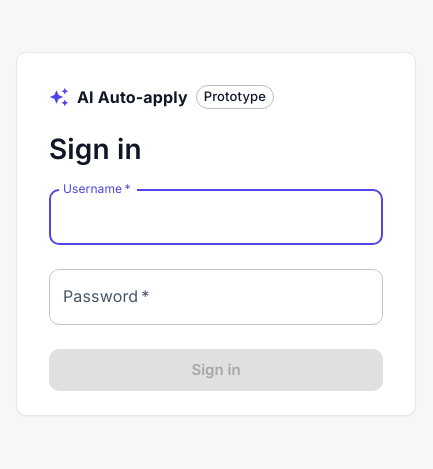
Test: login gate › says so on a wrong password and stays on the login page
The image size is (433, 469).
Type "jobseeker" into the field labelled "Username *".
click(216, 217); type("jobseeker")  # box [49,189,383,245]
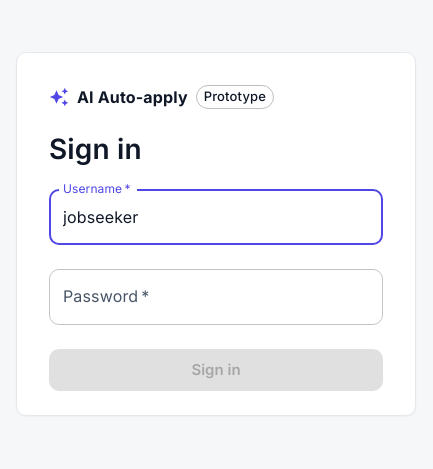
Type "wrong" into the password field labelled "Password *".
click(216, 297); type("wrong")  # box [49,269,383,325]
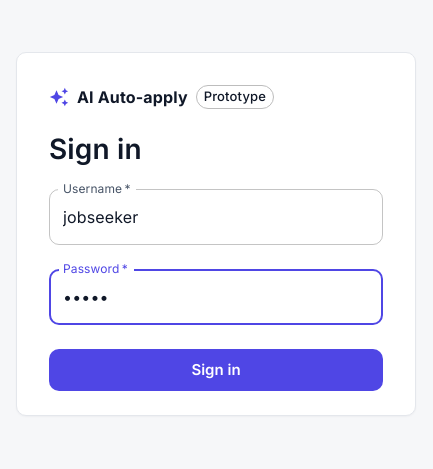
Click the button "Sign in".
click(216, 370)  # box [49,349,383,392]
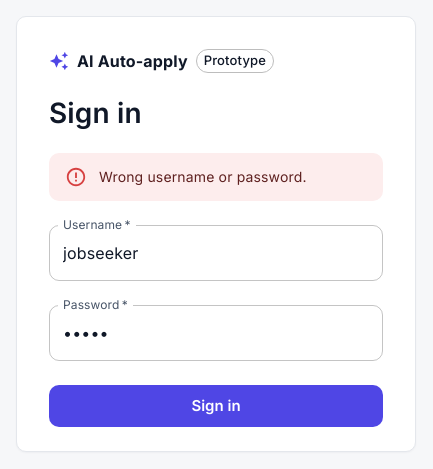
Expected: the heading "Sign in" is shown, [49,96,142,130]
Expected: the message reads "Wrong username or password.", [99,168,307,185]
